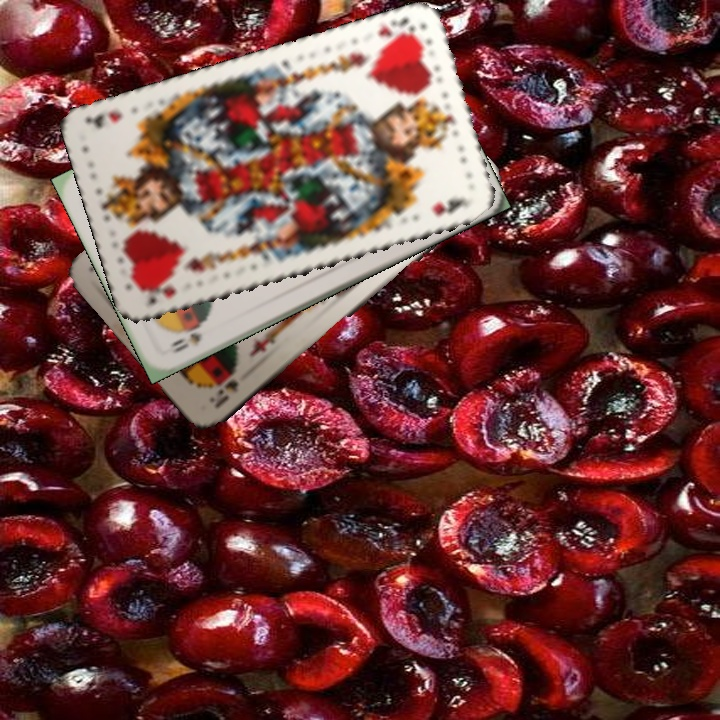HK: (374, 13, 418, 48), (137, 281, 179, 307)
SK: (204, 375, 241, 412)
SO: (163, 328, 205, 356)
